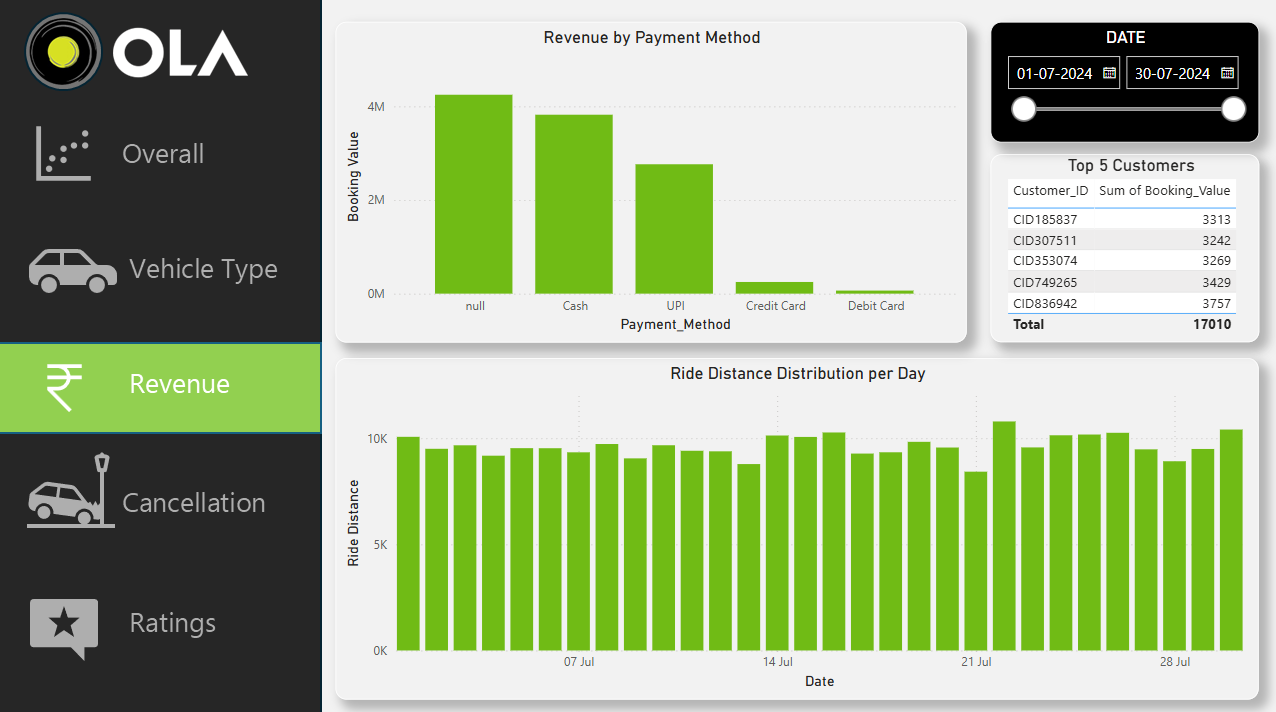

This screenshot's page, from the dashboard's own definition file:
{"tool":"powerbi","page":{"name":"Revenue","canvas":[1280,720],"ordinal":2},"visuals":[{"type":"actionButton","box":[0,223.2,326.9,94.1],"z":0},{"type":"actionButton","box":[0,107.4,326.9,98.9],"z":1000},{"type":"actionButton","box":[0,343.8,326.9,95.3],"z":2000},{"type":"actionButton","box":[0,448.8,326.9,96.5],"z":3000},{"type":"actionButton","box":[0,577.9,326.9,92.9],"z":4000},{"type":"columnChart","title":"Revenue by Payment Method","fields":{"Category":["Booking_ola.Payment_Method"],"Y":["Sum(Booking_ola.Booking_Value)"]},"box":[337.6,23.3,631.2,321.1],"z":4001},{"type":"columnChart","title":"Ride Distance Distribution per Day","fields":{"Category":["Booking_ola.Date"],"Y":["Sum(Booking_ola.Ride_Distance)"]},"box":[337.6,359.5,923.5,341.7],"z":4002},{"type":"slicer","title":"DATE","fields":{"Values":["Booking_ola.Date"]},"box":[992.1,23.3,269,120.8],"z":4003},{"type":"tableEx","title":"Top 5 Customers","fields":{"Values":["Booking_ola.Customer_ID","Sum(Booking_ola.Booking_Value)"]},"box":[992.1,156.4,269,188],"z":4004}]}

Visuals, with their boxes in screenshot pixels (x1, y1, x2, y2), scaled from the page's 1280x720 canvas onto the 1276x712 screenshot:
actionButton: 0 221 326 314
actionButton: 0 106 326 204
actionButton: 0 340 326 434
actionButton: 0 444 326 539
actionButton: 0 571 326 663
"Revenue by Payment Method" columnChart: 337 23 966 341
"Ride Distance Distribution per Day" columnChart: 337 356 1257 693
"DATE" slicer: 989 23 1257 142
"Top 5 Customers" tableEx: 989 155 1257 341
